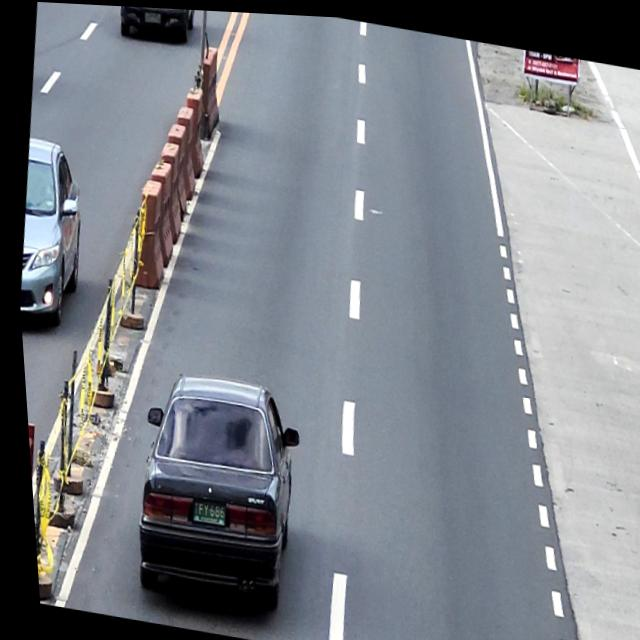Car: (115, 361, 308, 614), (7, 134, 92, 329), (116, 5, 198, 45)
License-Plate: (182, 493, 221, 525), (143, 9, 162, 24)
